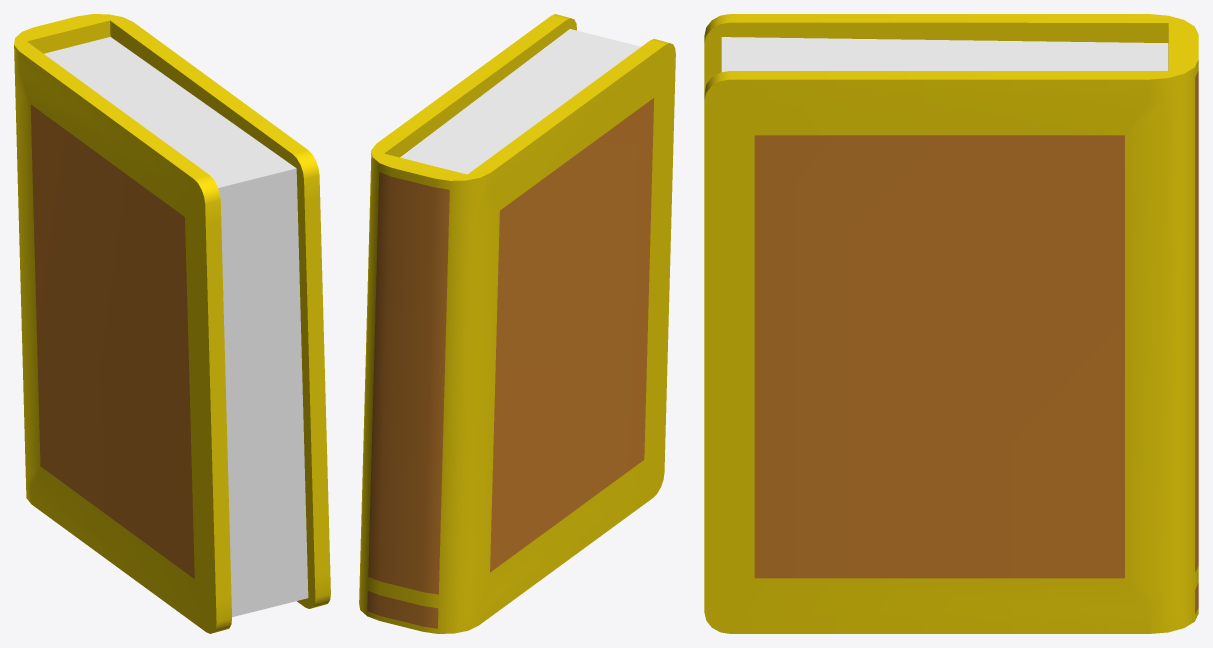
The model's file is book_11.fbx.
3 renders of one model, left to right at view 1: azimuth 30°, elevation 25°; view 2: azimuth 150°, elevation 25°; view 3: azimuth 270°, elevation 25°, orthographic. The views are drawn at different scales.
Visible parts, largest first — view 1: book_11; view 2: book_11; view 3: book_11.
Boxes of the visible parts, bbox=[...] form: book_11: bbox=[14, 14, 330, 633]; book_11: bbox=[359, 14, 675, 633]; book_11: bbox=[704, 14, 1198, 633].
Bounding box in the file's own units: 0.0908 × 0.3132 × 0.2557.
